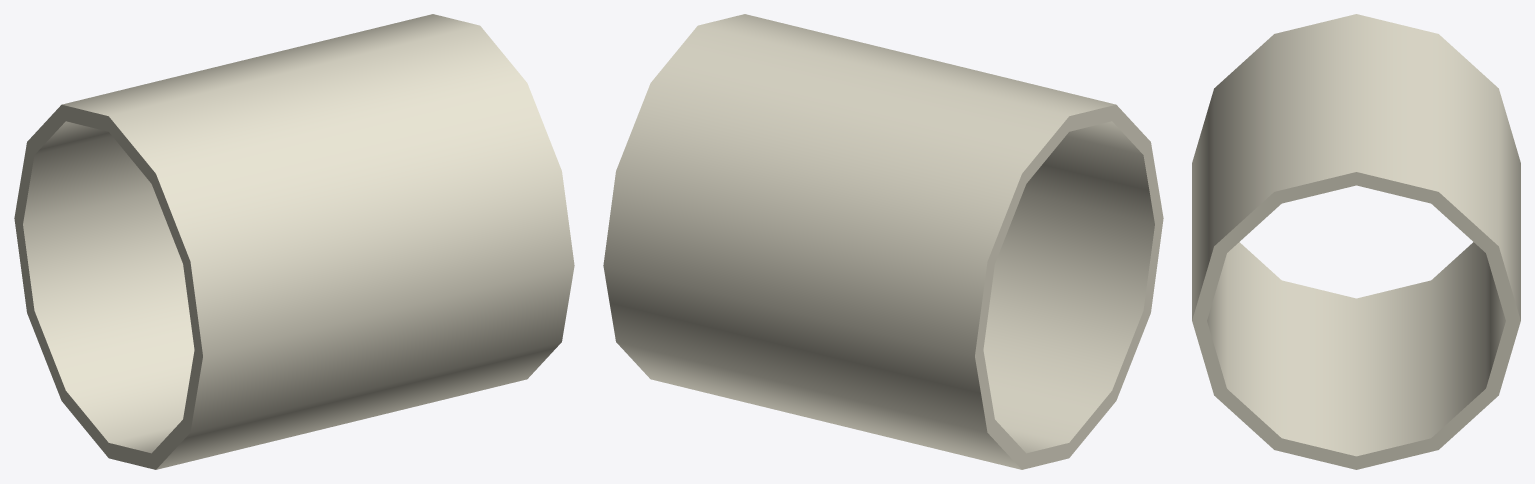
The model's file is straight_pipe_4x5m.fbx.
The picture shows the model from 3 angles, left to right: view 1: azimuth 30°, elevation 25°; view 2: azimuth 150°, elevation 25°; view 3: azimuth 270°, elevation 25°; orthographic projection. The views are drawn at different scales.
Visible parts, largest first — view 1: pPipe3; view 2: pPipe3; view 3: pPipe3.
Part boxes in pixels (left/top/right/bottom): pPipe3: left=14, top=14, right=574, bottom=469; pPipe3: left=603, top=14, right=1163, bottom=469; pPipe3: left=1192, top=14, right=1520, bottom=469.
Bounding box in the file's own units: 5 × 4.4 × 4.4.
